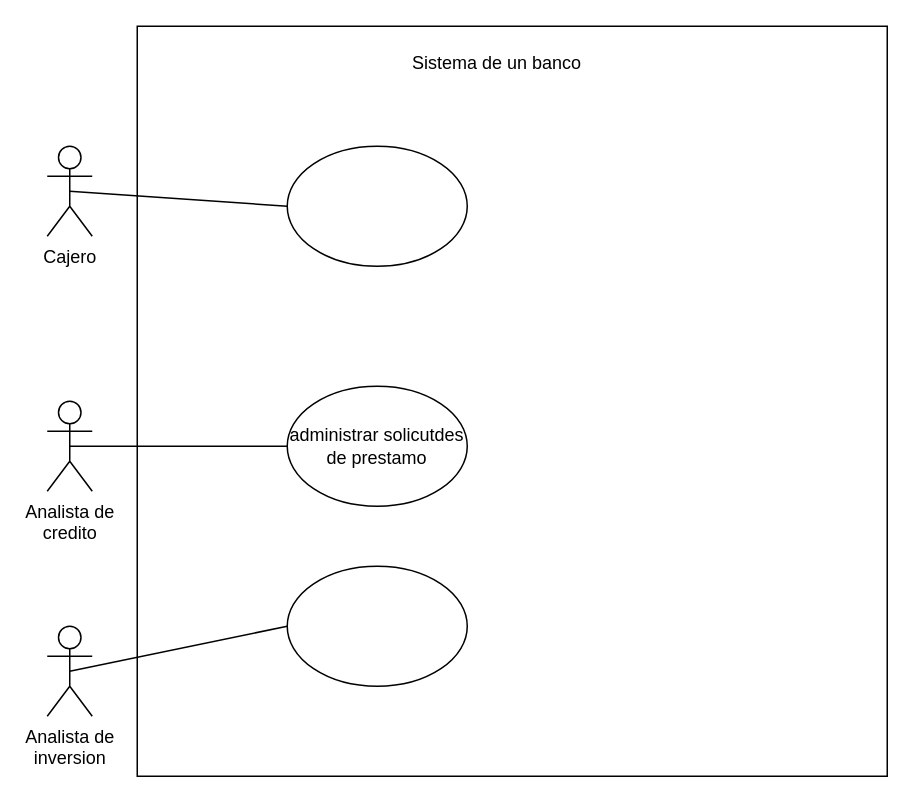
This 914x803 diagram has some shape labels left out. Each missing label, with the box of its shape:
administrar depositos: (286, 145, 467, 266)
administrar polizas: (286, 565, 467, 686)
